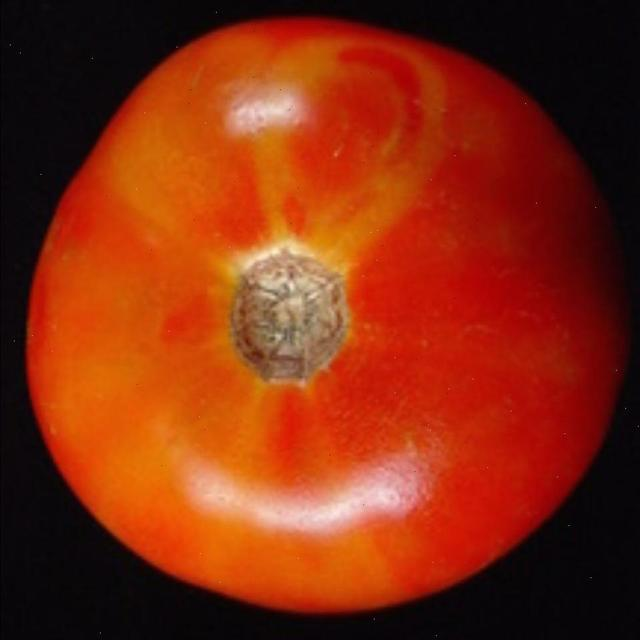Spotted wilt Virus Fruit: (154, 199, 529, 537)
